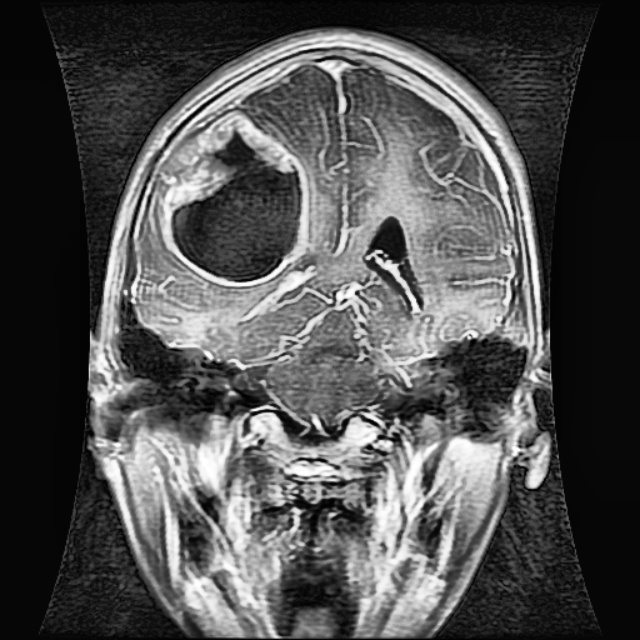Meningioma: (154, 105, 308, 285)
